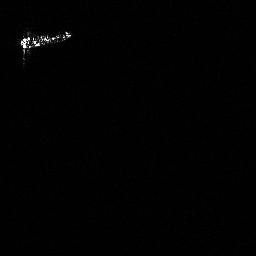ship: (17, 27, 73, 64)
